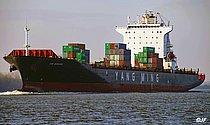Ship: (5, 15, 207, 98)
